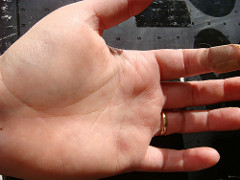palm: (22, 35, 154, 168)
